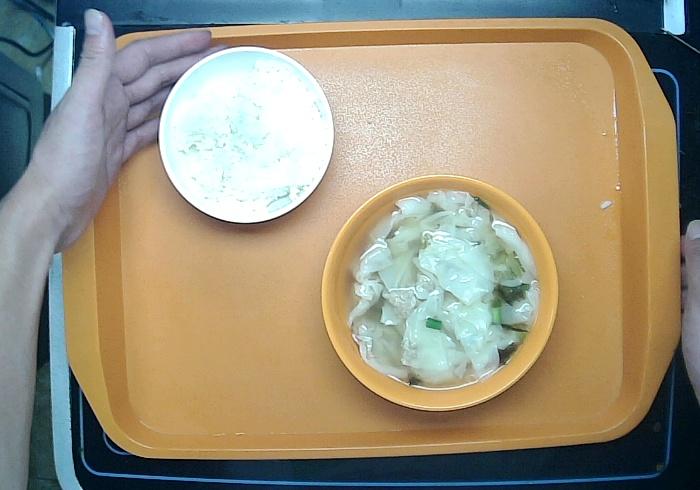NLDX-Fan_Wan: (149, 41, 339, 233)
NLDX-Hun_Tun_Wan: (320, 173, 563, 417)
